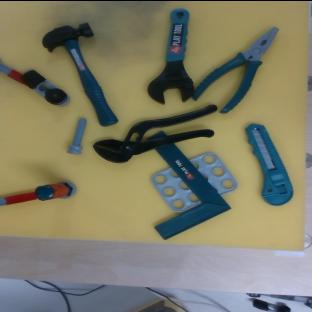non_pass: (0, 51, 72, 114)
pass: (0, 180, 77, 205)
